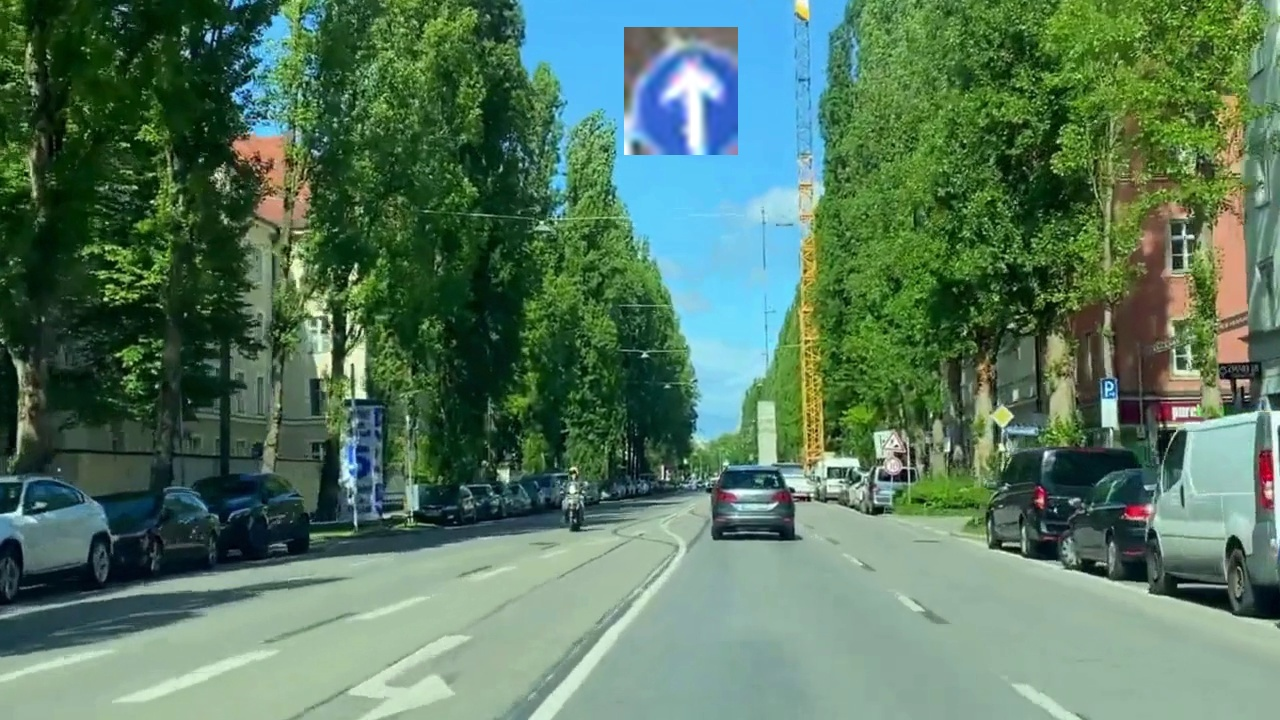Ahead only: (624, 27, 738, 155)
